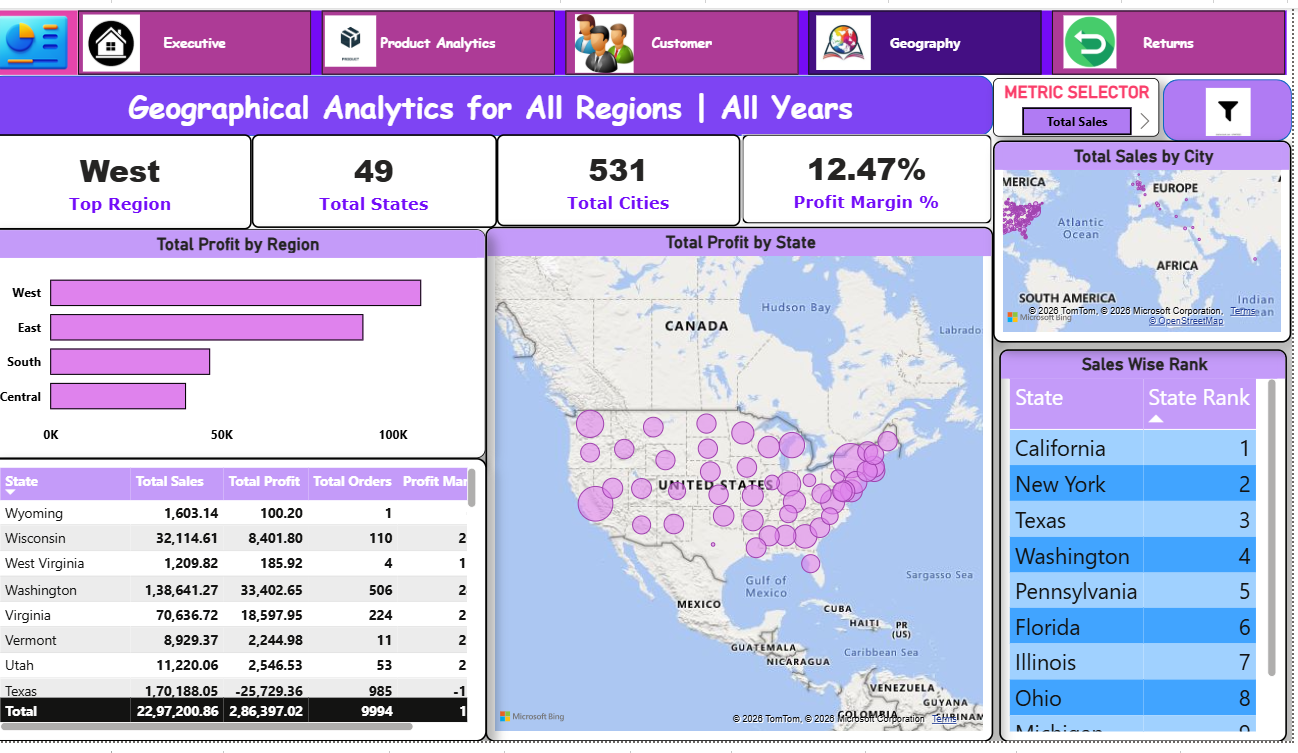

Layout of this report page (visuals, bound fields, positions):
{"tool":"powerbi","page":{"name":"Geography","canvas":[1280,720],"ordinal":3},"visuals":[{"type":"pageNavigator","box":[88.1,2.5,1186.7,63.3],"z":0},{"type":"image","box":[0,2.7,87.8,63.1],"z":1000},{"type":"shape","box":[0,65.8,986.8,59.6],"z":2000},{"type":"slicer","title":"METRIC SELECTOR","fields":{"Values":["Parameter.Parameter"]},"box":[986.5,68.7,163.2,57.7],"z":3000},{"type":"shape","box":[1153.2,69.5,126.6,60.8],"z":4000},{"type":"image","box":[1173,73.2,88.1,57.1],"z":5000},{"type":"image","box":[87.8,0,65.9,68.6],"z":6000},{"type":"image","box":[319.7,2.7,71.4,60.4],"z":7000},{"type":"image","box":[570.8,1.4,68.6,67.2],"z":8000},{"type":"image","box":[806.9,2.7,64.5,63.1],"z":9000},{"type":"image","box":[1040.1,2.7,82.3,61.7],"z":10000},{"type":"card","fields":{"Values":["Measure.Top Region"]},"box":[1.2,123.9,257.7,93.3],"z":12000},{"type":"card","fields":{"Values":["Measure.Total State"]},"box":[258.9,123.9,240.5,92],"z":13000},{"type":"card","fields":{"Values":["Measure.Total Cities"]},"box":[499.4,123.9,239.3,90.8],"z":14000},{"type":"card","fields":{"Values":["Measure.Profit Margin %"]},"box":[739.8,124.1,245.8,88.1],"z":15000},{"type":"map","fields":{"Size":["Measure.Total Profit"],"Category":["Orders.State"]},"box":[488.3,214.7,498.2,505.5],"z":16000},{"type":"barChart","fields":{"Y":["Measure.Total Profit"],"Category":["Orders.Region"]},"box":[1.2,217.2,487.1,224.5],"z":17000},{"type":"pivotTable","fields":{"Rows":["Orders.State"],"Values":["Measure.Total Sales","Measure.Total Profit","Measure.Total Orders","Measure.Profit Margin %"]},"box":[2.5,441.7,487.1,278.5],"z":18000},{"type":"tableEx","title":"Sales Wise Rank","fields":{"Values":["Orders.State","Measure.State Rank"]},"box":[992.6,335,282.2,385.3],"z":19000},{"type":"map","fields":{"Category":["Orders.City"],"Size":["Measure.Total Sales"]},"box":[986.8,130.3,292.9,198.6],"z":20000}]}

Visuals, with their boxes on the page's 1280x720 design canvas (x1, y1, x2, y2). These are canvas units, not pixel positions in the 1298x753 screenshot, which may show the page scaled, cropped or inside an application window:
pageNavigator: bbox(88, 2, 1275, 66)
image: bbox(0, 3, 88, 66)
shape: bbox(0, 66, 987, 125)
"METRIC SELECTOR" slicer: bbox(986, 69, 1150, 126)
shape: bbox(1153, 70, 1280, 130)
image: bbox(1173, 73, 1261, 130)
image: bbox(88, 0, 154, 69)
image: bbox(320, 3, 391, 63)
image: bbox(571, 1, 639, 69)
image: bbox(807, 3, 871, 66)
image: bbox(1040, 3, 1122, 64)
card - Measure.Top Region: bbox(1, 124, 259, 217)
card - Measure.Total State: bbox(259, 124, 499, 216)
card - Measure.Total Cities: bbox(499, 124, 739, 215)
card - Measure.Profit Margin %: bbox(740, 124, 986, 212)
map - Measure.Total Profit x Orders.State: bbox(488, 215, 986, 720)
barChart - Measure.Total Profit x Orders.Region: bbox(1, 217, 488, 442)
pivotTable - Orders.State x Measure.Total Sales: bbox(2, 442, 490, 720)
"Sales Wise Rank" tableEx: bbox(993, 335, 1275, 720)
map - Orders.City x Measure.Total Sales: bbox(987, 130, 1280, 329)
